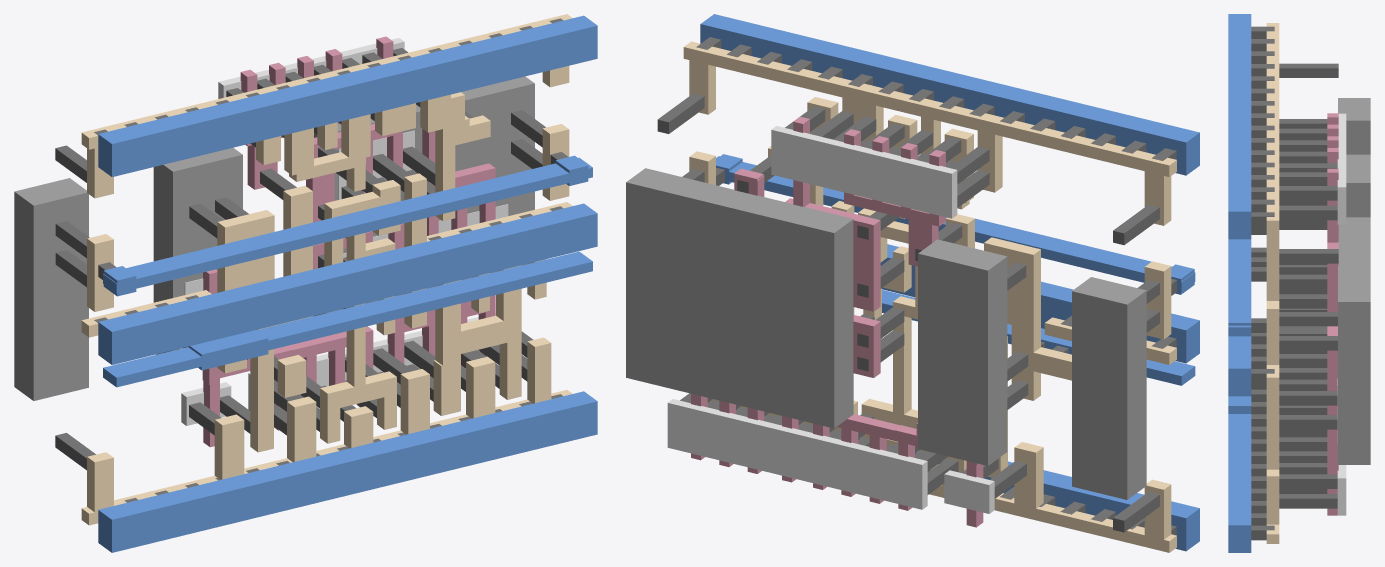
File: sky130_fd_sc_hd__lpflow_lsbuf_lh_hl_isowell_tap_4.gds.gltf
3 views of the same model, side by side, from view 1: azimuth 30°, elevation 25°; view 2: azimuth 150°, elevation 25°; view 3: azimuth 270°, elevation 25° (orthographic). The views are drawn at different scales.
Visible parts, largest first — view 1: sky130_fd_sc_hd__lpflow_lsbuf_lh_hl_isowell_tap_4_met1, sky130_fd_sc_hd__lpflow_lsbuf_lh_hl_isowell_tap_4_li1, sky130_fd_sc_hd__lpflow_lsbuf_lh_hl_isowell_tap_4_nwell, sky130_fd_sc_hd__lpflow_lsbuf_lh_hl_isowell_tap_4_licon, sky130_fd_sc_hd__lpflow_lsbuf_lh_hl_isowell_tap_4_poly, sky130_fd_sc_hd__lpflow_lsbuf_lh_hl_isowell_tap_4_diff, sky130_fd_sc_hd__lpflow_lsbuf_lh_hl_isowell_tap_4_mcon; view 2: sky130_fd_sc_hd__lpflow_lsbuf_lh_hl_isowell_tap_4_nwell, sky130_fd_sc_hd__lpflow_lsbuf_lh_hl_isowell_tap_4_li1, sky130_fd_sc_hd__lpflow_lsbuf_lh_hl_isowell_tap_4_met1, sky130_fd_sc_hd__lpflow_lsbuf_lh_hl_isowell_tap_4_diff, sky130_fd_sc_hd__lpflow_lsbuf_lh_hl_isowell_tap_4_licon, sky130_fd_sc_hd__lpflow_lsbuf_lh_hl_isowell_tap_4_poly, sky130_fd_sc_hd__lpflow_lsbuf_lh_hl_isowell_tap_4_mcon; view 3: sky130_fd_sc_hd__lpflow_lsbuf_lh_hl_isowell_tap_4_licon, sky130_fd_sc_hd__lpflow_lsbuf_lh_hl_isowell_tap_4_met1, sky130_fd_sc_hd__lpflow_lsbuf_lh_hl_isowell_tap_4_nwell, sky130_fd_sc_hd__lpflow_lsbuf_lh_hl_isowell_tap_4_mcon, sky130_fd_sc_hd__lpflow_lsbuf_lh_hl_isowell_tap_4_li1, sky130_fd_sc_hd__lpflow_lsbuf_lh_hl_isowell_tap_4_poly, sky130_fd_sc_hd__lpflow_lsbuf_lh_hl_isowell_tap_4_diff.
Boxes of the visible parts, x1,y1,x2,y2 form: sky130_fd_sc_hd__lpflow_lsbuf_lh_hl_isowell_tap_4_met1: (98, 15, 597, 552); sky130_fd_sc_hd__lpflow_lsbuf_lh_hl_isowell_tap_4_li1: (81, 14, 572, 525); sky130_fd_sc_hd__lpflow_lsbuf_lh_hl_isowell_tap_4_nwell: (14, 76, 534, 400); sky130_fd_sc_hd__lpflow_lsbuf_lh_hl_isowell_tap_4_licon: (55, 48, 545, 470); sky130_fd_sc_hd__lpflow_lsbuf_lh_hl_isowell_tap_4_poly: (202, 36, 495, 447); sky130_fd_sc_hd__lpflow_lsbuf_lh_hl_isowell_tap_4_diff: (181, 38, 508, 425); sky130_fd_sc_hd__lpflow_lsbuf_lh_hl_isowell_tap_4_mcon: (94, 18, 568, 502); sky130_fd_sc_hd__lpflow_lsbuf_lh_hl_isowell_tap_4_nwell: (626, 168, 1146, 499); sky130_fd_sc_hd__lpflow_lsbuf_lh_hl_isowell_tap_4_li1: (683, 41, 1176, 552); sky130_fd_sc_hd__lpflow_lsbuf_lh_hl_isowell_tap_4_met1: (700, 14, 1199, 551); sky130_fd_sc_hd__lpflow_lsbuf_lh_hl_isowell_tap_4_diff: (667, 126, 994, 513); sky130_fd_sc_hd__lpflow_lsbuf_lh_hl_isowell_tap_4_licon: (657, 93, 1159, 532); sky130_fd_sc_hd__lpflow_lsbuf_lh_hl_isowell_tap_4_poly: (691, 116, 983, 527); sky130_fd_sc_hd__lpflow_lsbuf_lh_hl_isowell_tap_4_mcon: (696, 37, 1176, 535); sky130_fd_sc_hd__lpflow_lsbuf_lh_hl_isowell_tap_4_licon: (1279, 63, 1338, 508); sky130_fd_sc_hd__lpflow_lsbuf_lh_hl_isowell_tap_4_met1: (1228, 14, 1251, 552); sky130_fd_sc_hd__lpflow_lsbuf_lh_hl_isowell_tap_4_nwell: (1338, 98, 1370, 464); sky130_fd_sc_hd__lpflow_lsbuf_lh_hl_isowell_tap_4_mcon: (1251, 26, 1274, 540); sky130_fd_sc_hd__lpflow_lsbuf_lh_hl_isowell_tap_4_li1: (1266, 23, 1279, 543); sky130_fd_sc_hd__lpflow_lsbuf_lh_hl_isowell_tap_4_poly: (1327, 113, 1338, 515); sky130_fd_sc_hd__lpflow_lsbuf_lh_hl_isowell_tap_4_diff: (1337, 113, 1346, 515).
Size of the model in its own units: 7.59 by 5.92 by 2.24.
